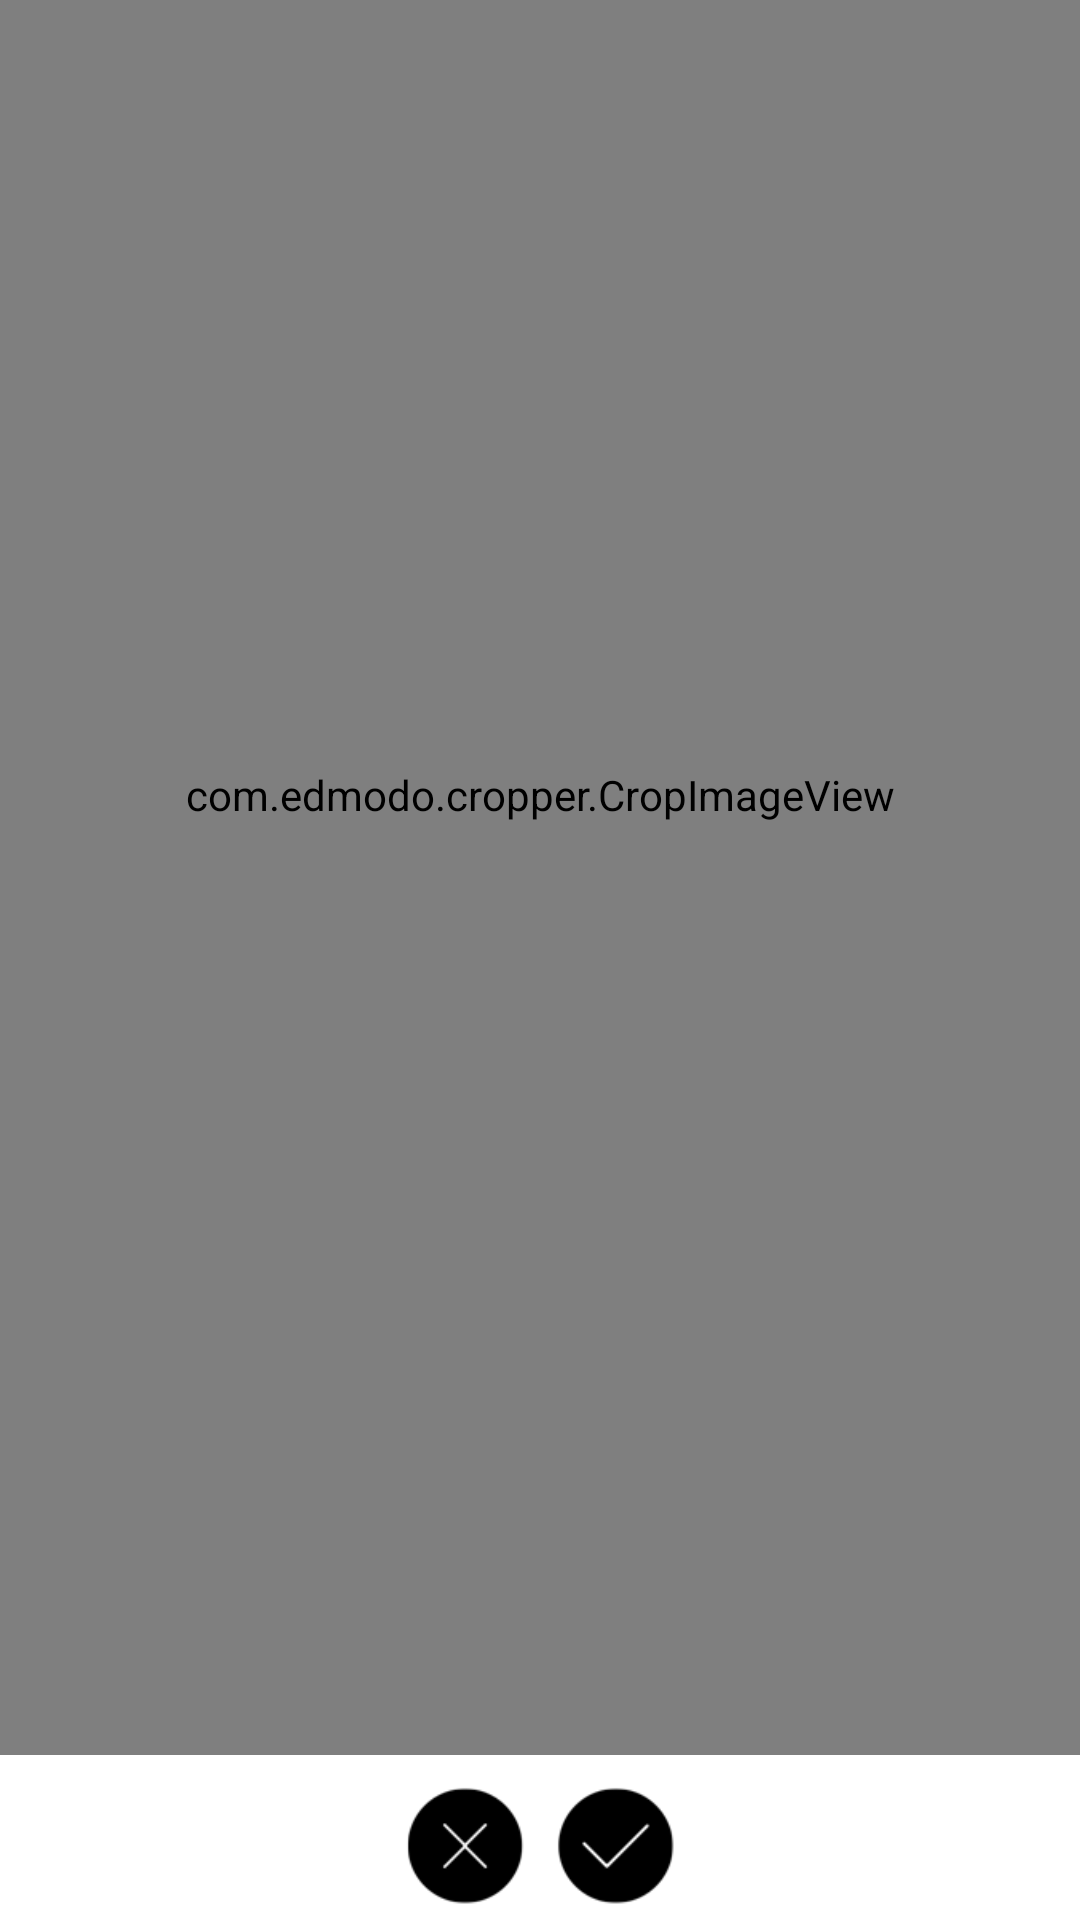

Screen size 1080w x 1920h. Icon name, then its box in pixels as (x1, y1, x2, y2):
crop cancel: (408, 1788, 523, 1904)
crop submit: (558, 1788, 674, 1904)
